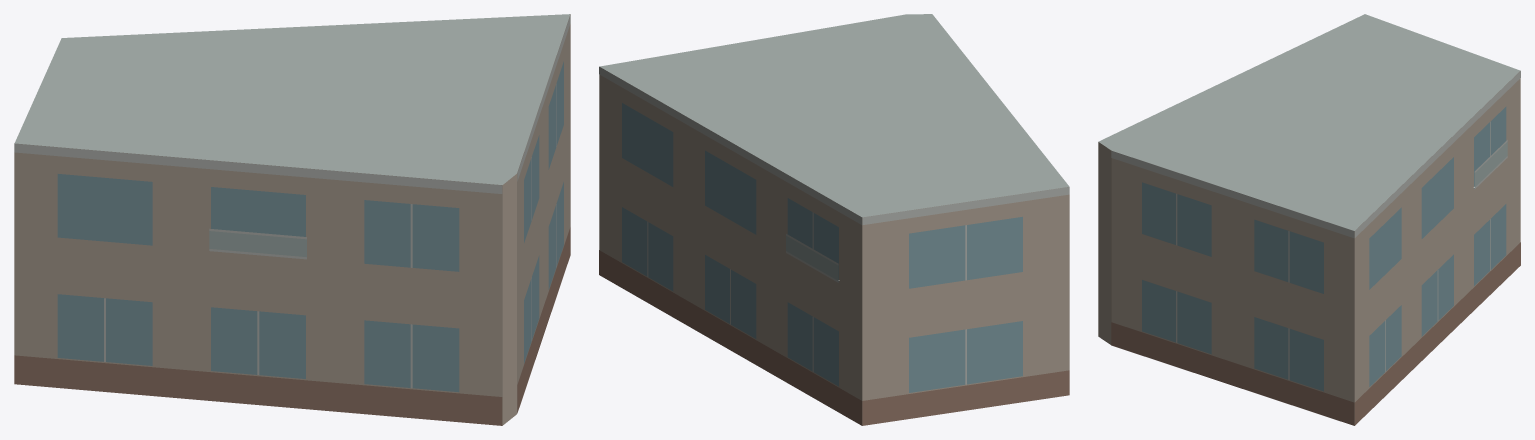
The model's file is survey-upis-32791821.glb.
3 views of the same model, side by side, from view 1: azimuth 30°, elevation 25°; view 2: azimuth 150°, elevation 25°; view 3: azimuth 270°, elevation 25° (orthographic). The views are drawn at different scales.
Visible parts, largest first — view 1: survey-upis-32791821.tmp; view 2: survey-upis-32791821.tmp; view 3: survey-upis-32791821.tmp.
Boxes of the visible parts, x1,y1,x2,y2 form: survey-upis-32791821.tmp: [14, 14, 570, 425]; survey-upis-32791821.tmp: [599, 14, 1069, 425]; survey-upis-32791821.tmp: [1098, 14, 1520, 425].
Size of the model in its own units: 15.54 by 6.5 by 12.78.
